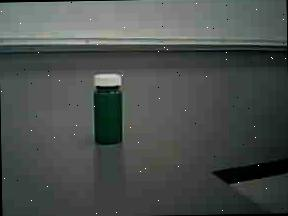Bottle C: (82, 66, 132, 148)
